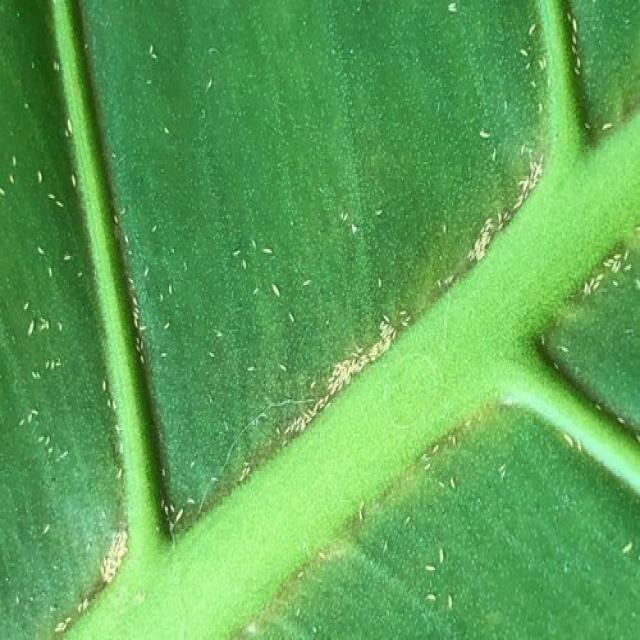Thrip-Group-: (21, 38, 612, 596)
